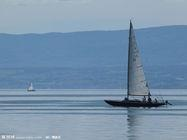fanchuan: (103, 19, 171, 107)
